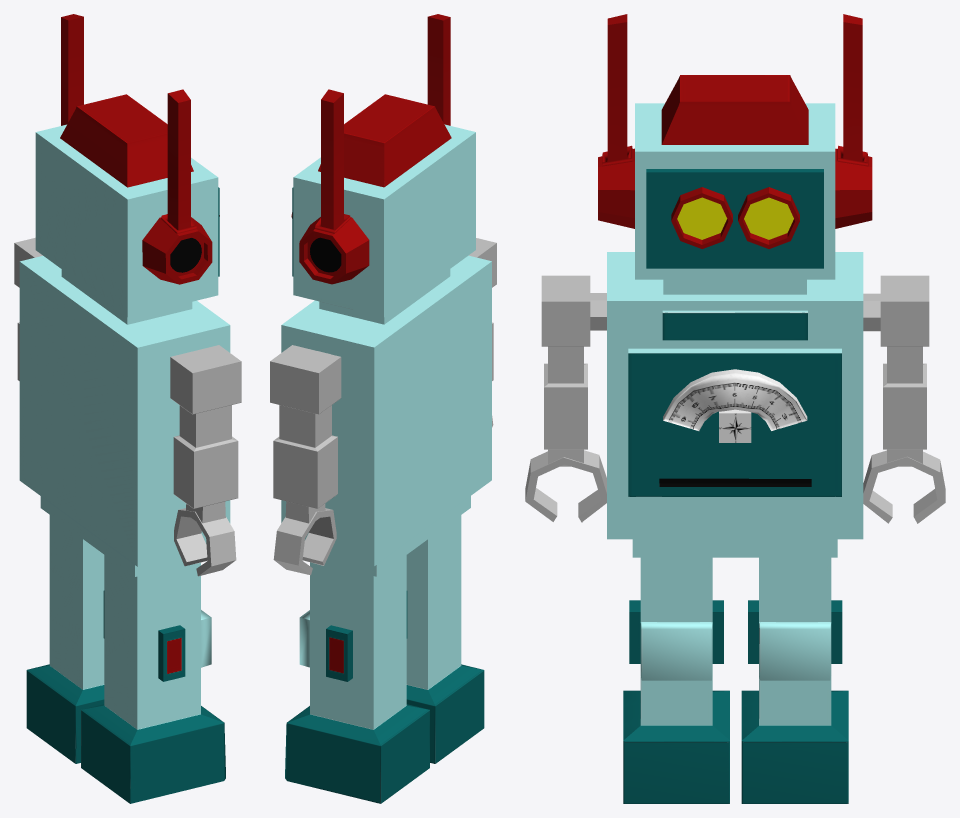
File: robotWtAnim.fbx
The picture shows the model from 3 angles, left to right: view 1: azimuth 30°, elevation 25°; view 2: azimuth 150°, elevation 25°; view 3: azimuth 270°, elevation 25°; orthographic projection. The views are drawn at different scales.
Parts seen in each view (by area): view 1: pCube3, pCube1, pCube5, pasted__polySurface14, pasted__pCube5, pCylinder1, pCylinder5, polySurface18; view 2: pCube3, pCube1, pasted__pCube5, polySurface18, pCube5, pCylinder5, pCylinder1, pasted__polySurface14; view 3: pCube3, pCube1, pasted__pCube5, pCube5, pCube2, polySurface18, pasted__polySurface14, pCylinder1, polySurface2, pCylinder5, pasted__pCylinder4, pCylinder4 (+1 smaller).
Part boxes in pixels (x1,y1,x2,y2): pCube3: (19,256,230,576); pCube1: (35,94,218,324); pCube5: (81,555,225,803); pasted__polySurface14: (170,345,241,576); pasted__pCube5: (26,515,104,763); pCylinder1: (142,89,212,284); pCylinder5: (61,14,83,125); polySurface18: (14,237,42,381); pCube3: (281,255,491,576); pCube1: (293,94,475,324); pasted__pCube5: (285,555,429,803); polySurface18: (270,345,341,575); pCube5: (406,515,484,763); pCylinder5: (299,89,369,284); pCylinder1: (427,14,450,125); pasted__polySurface14: (469,238,496,427); pCube3: (607,252,863,557); pCube1: (635,75,835,294); pasted__pCube5: (741,557,848,803); pCube5: (623,557,729,803); pCube2: (646,169,823,268); polySurface18: (863,275,945,523); pasted__polySurface14: (525,275,606,522); pCylinder1: (598,14,634,228); polySurface2: (663,369,807,430); pCylinder5: (835,14,872,228); pasted__pCylinder4: (738,187,799,248); pCylinder4: (671,187,732,248).
Bounding box in the file's own units: 1.53 × 8.72 × 4.36.
